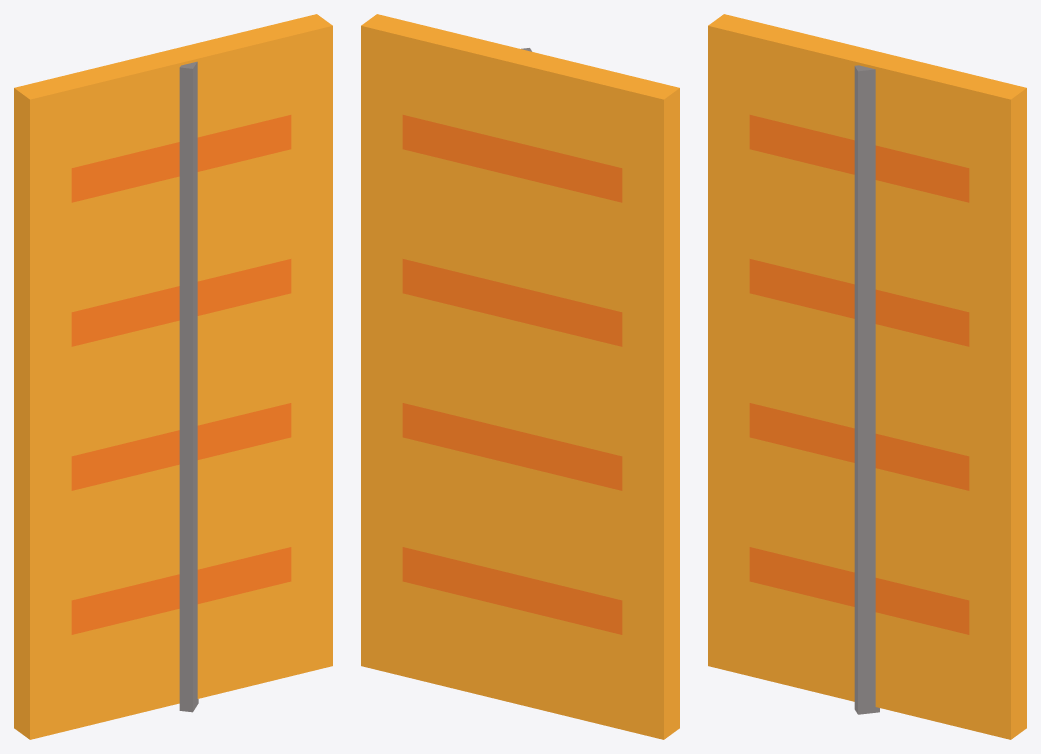
Rendered from cargo-shipping-door_R_orange.glb.
3 renders of one model, left to right at view 1: azimuth 30°, elevation 25°; view 2: azimuth 150°, elevation 25°; view 3: azimuth 330°, elevation 25°, orthographic.
Visible parts, largest first — view 1: cargo-shipping-door_R_orange; view 2: cargo-shipping-door_R_orange; view 3: cargo-shipping-door_R_orange.
Part boxes in pixels (<box>): cargo-shipping-door_R_orange: <box>14,14,332,739</box>; cargo-shipping-door_R_orange: <box>361,14,679,739</box>; cargo-shipping-door_R_orange: <box>708,14,1026,739</box>.
Bounding box in the file's own units: 1.09 × 2.22 × 0.1398.
Materials: 1 (1 with a texture image).
